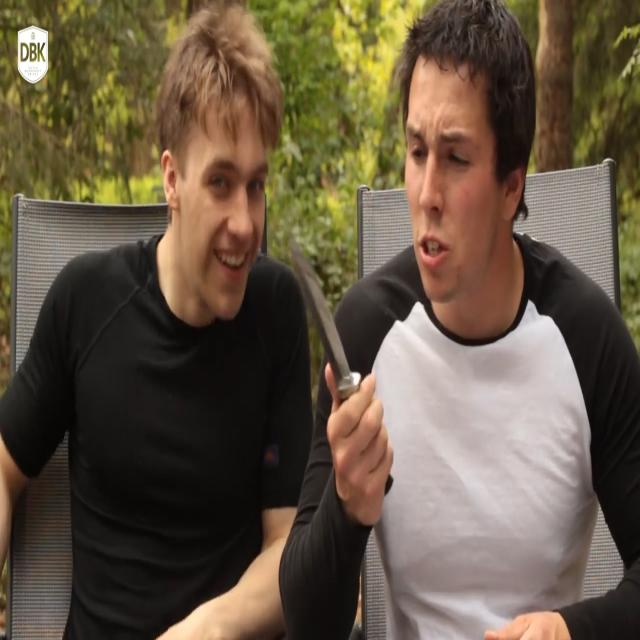knife: (288, 237, 364, 404)
